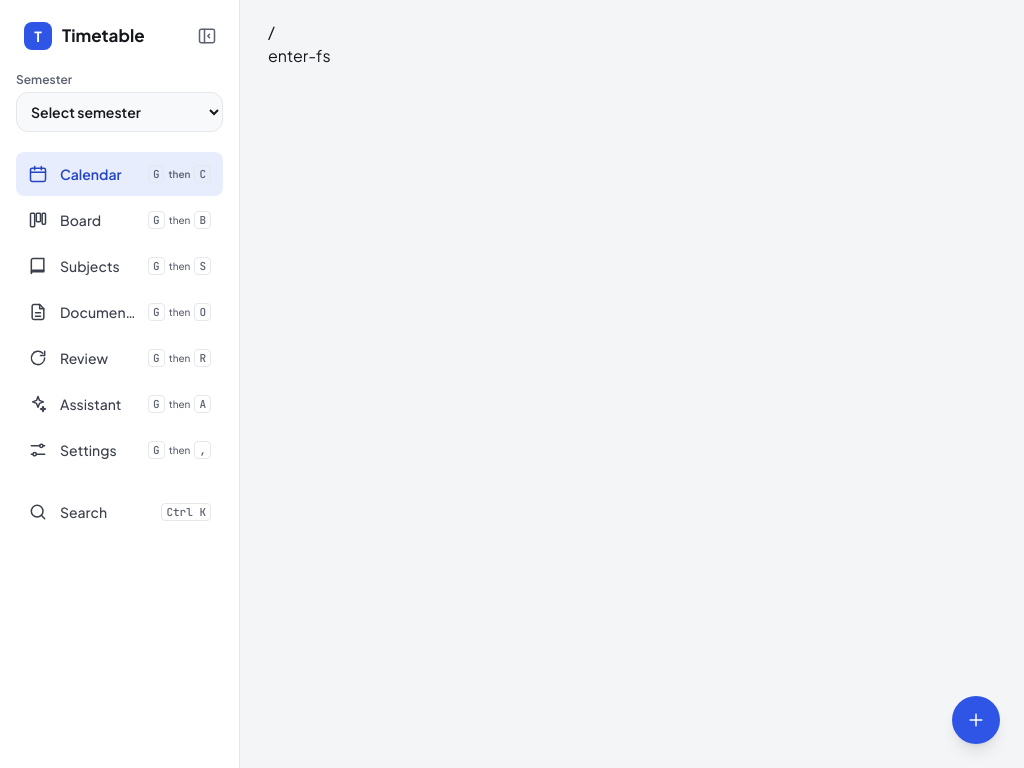
Scenario: quick-action button › opens a menu with the five actions and closes on Escape, returning focus
This screenshot has width=1024, height=768.
Click the button named "Quick actions".
click(976, 720)  # box [952, 696, 1000, 744]
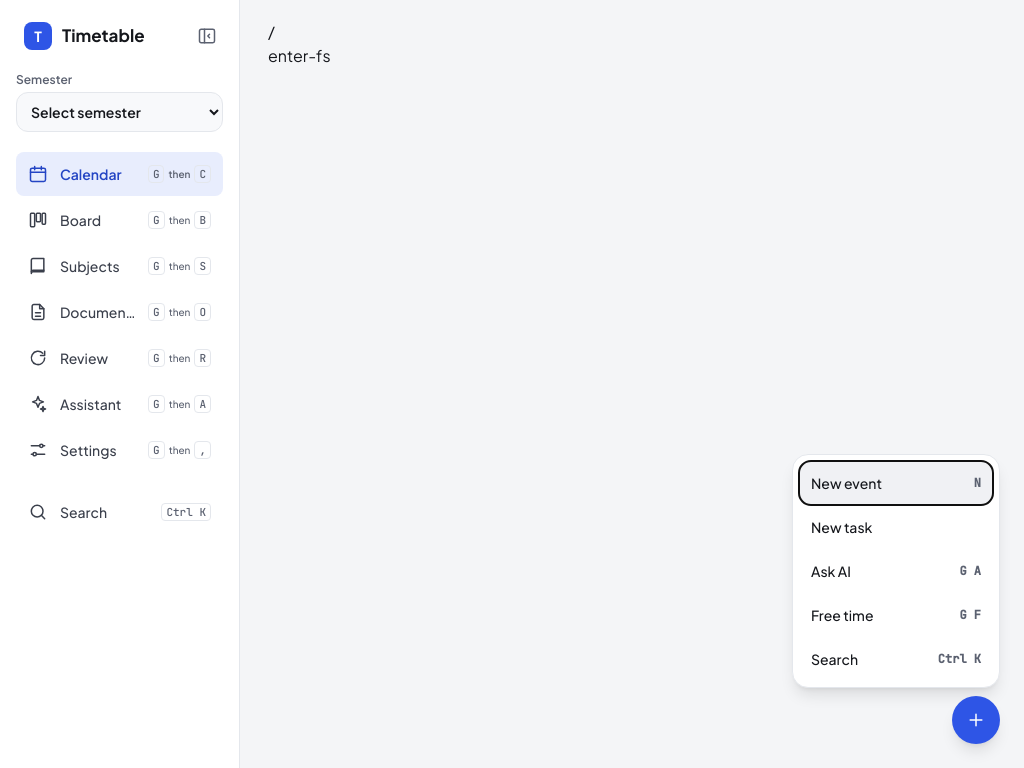
Press Escape
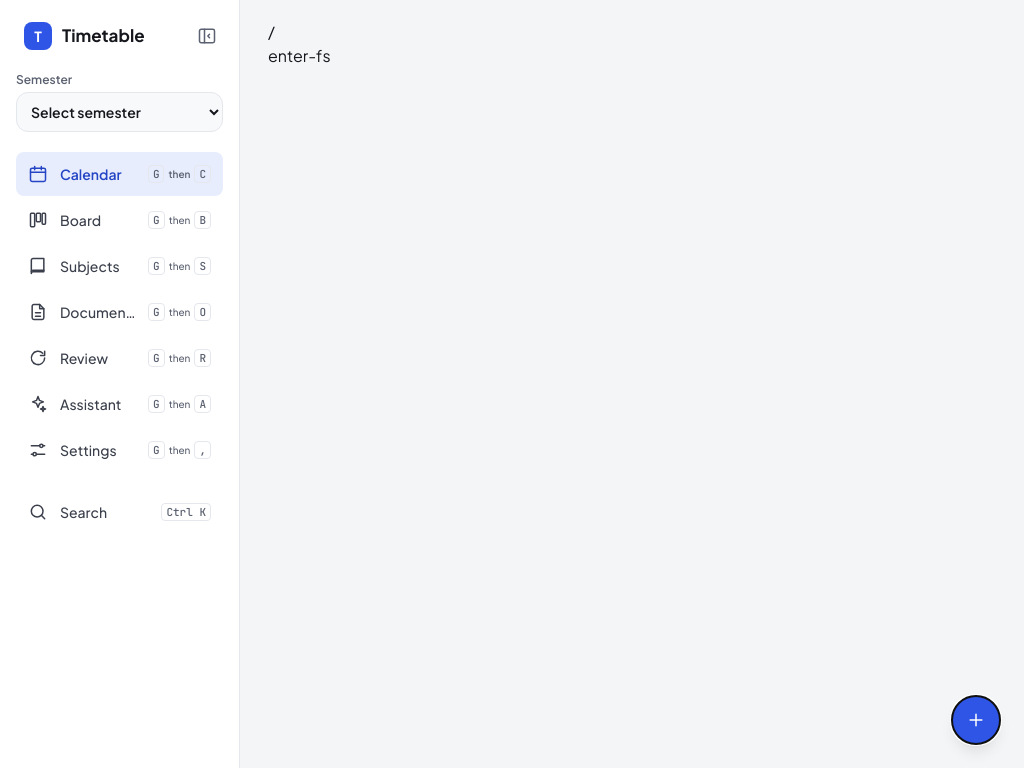
Check: the menu is gone
